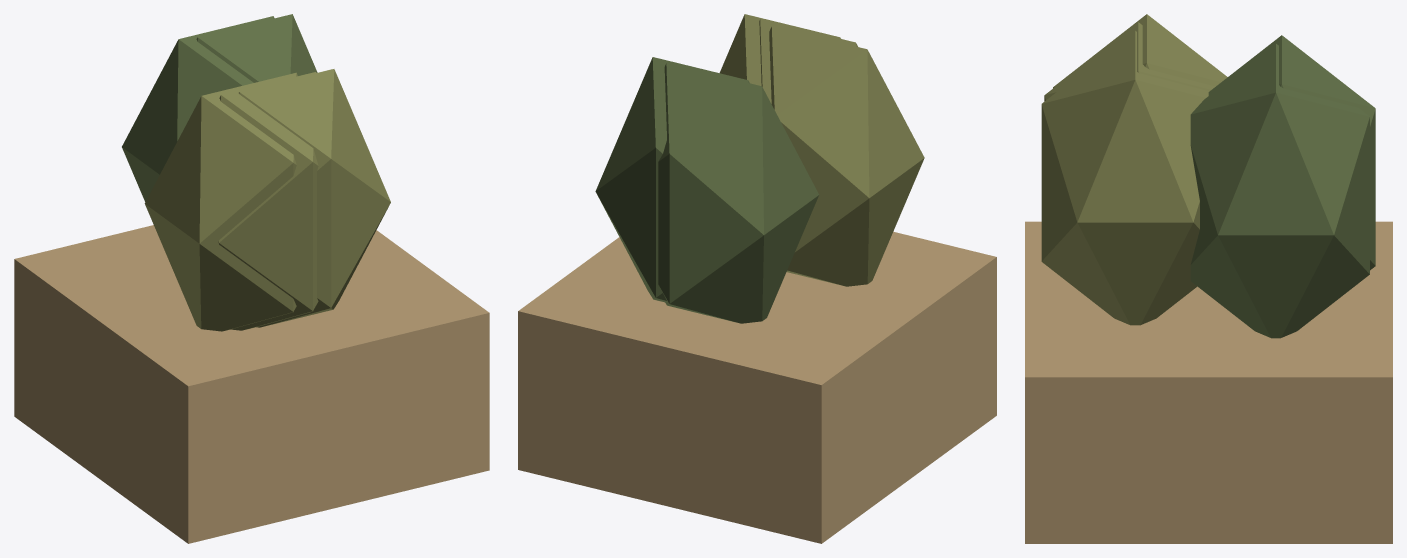
Rendered from planter.glb.
3 views of the same model, side by side, from view 1: azimuth 30°, elevation 25°; view 2: azimuth 150°, elevation 25°; view 3: azimuth 270°, elevation 25° (orthographic). The views are drawn at different scales.
Parts seen in each view (by area): view 1: planter-surface, wind-leaf-4-surface, wind-leaf-0-surface, wind-leaf-2-surface, wind-leaf-1-surface, wind-leaf-3-surface; view 2: planter-surface, wind-leaf-1-surface, wind-leaf-4-surface, wind-leaf-3-surface, wind-leaf-0-surface, wind-leaf-2-surface; view 3: planter-surface, wind-leaf-3-surface, wind-leaf-0-surface, wind-leaf-1-surface, wind-leaf-4-surface, wind-leaf-2-surface.
Part boxes in pixels (box(x1,y1,x2,y2)): planter-surface: box(14, 225, 489, 543); wind-leaf-4-surface: box(144, 72, 297, 331); wind-leaf-0-surface: box(239, 69, 390, 327); wind-leaf-2-surface: box(218, 72, 318, 330); wind-leaf-1-surface: box(122, 16, 274, 201); wind-leaf-3-surface: box(196, 14, 317, 82); planter-surface: box(518, 231, 996, 543); wind-leaf-1-surface: box(658, 63, 818, 323); wind-leaf-4-surface: box(769, 26, 924, 286); wind-leaf-3-surface: box(595, 57, 749, 302); wind-leaf-0-surface: box(719, 14, 840, 85); wind-leaf-2-surface: box(759, 19, 857, 103); planter-surface: box(1025, 221, 1392, 543); wind-leaf-3-surface: box(1190, 44, 1369, 338); wind-leaf-0-surface: box(1041, 31, 1209, 325); wind-leaf-1-surface: box(1208, 35, 1375, 270); wind-leaf-4-surface: box(1053, 14, 1227, 88); wind-leaf-2-surface: box(1044, 22, 1215, 101).
Size of the model in its own units: 1 by 1.23 by 1.
